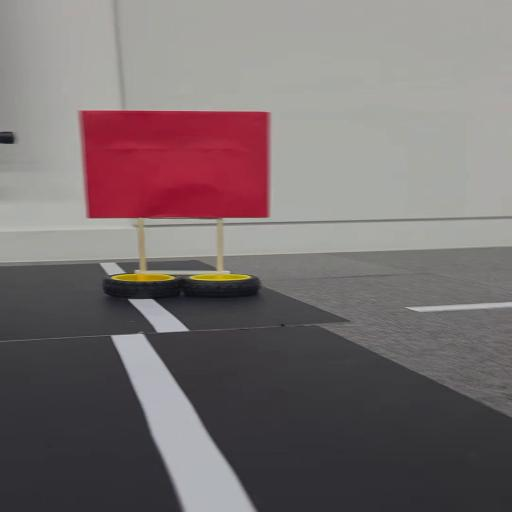Sign_A: (73, 104, 284, 306)
